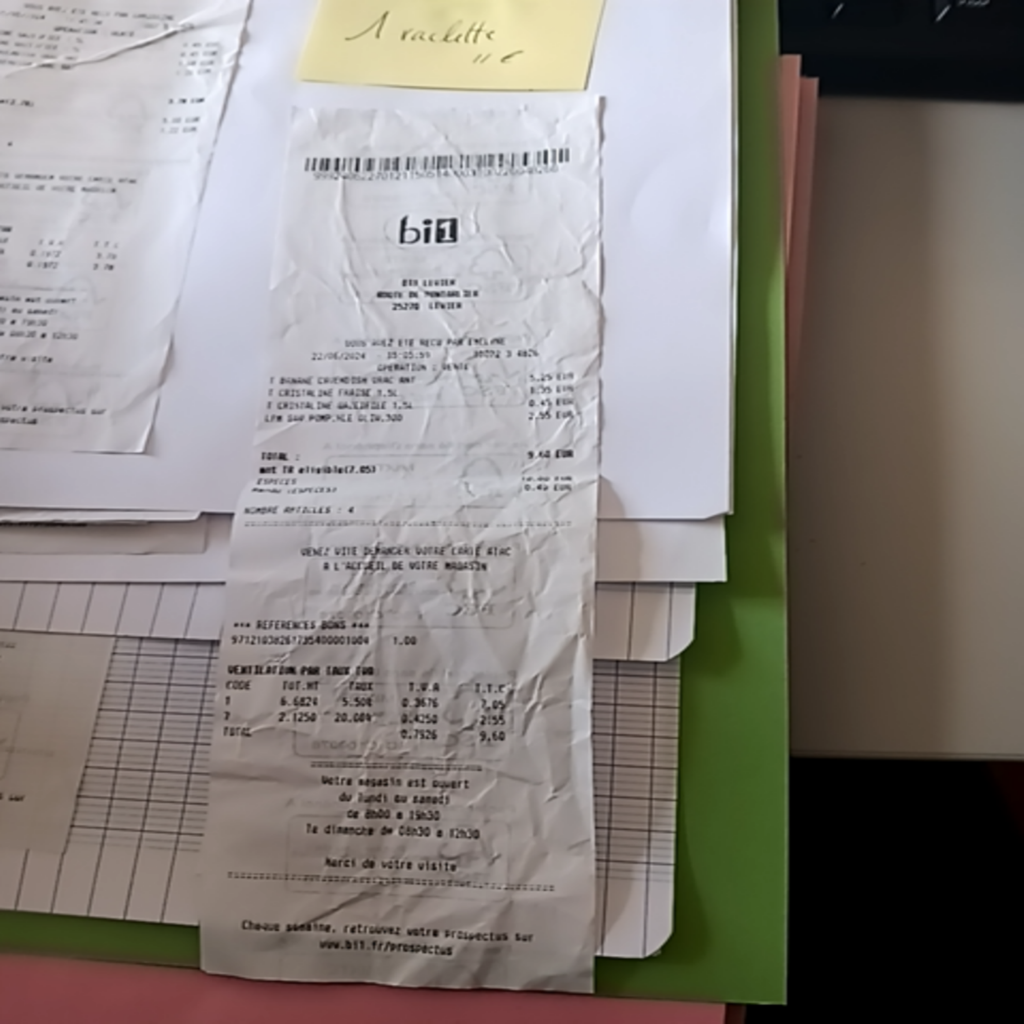recipt: (197, 96, 600, 992)
